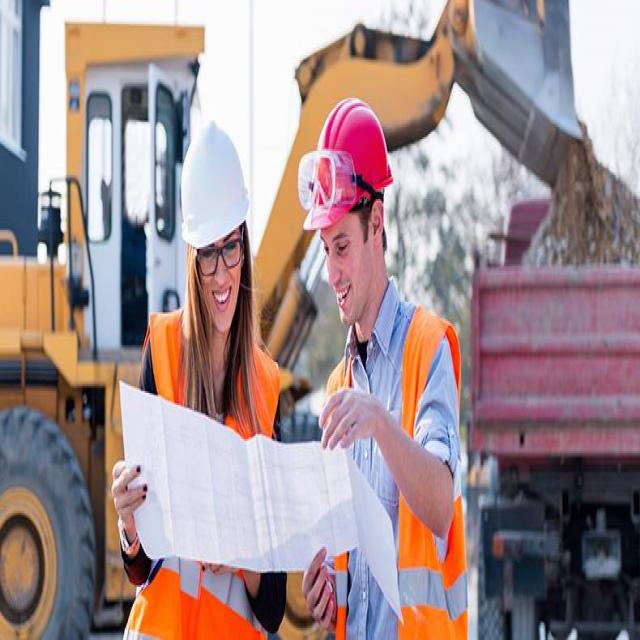Reflective-Jacket: (127, 315, 286, 640), (327, 300, 470, 640)
Safety-Helmet: (298, 88, 398, 238), (176, 113, 253, 251)
